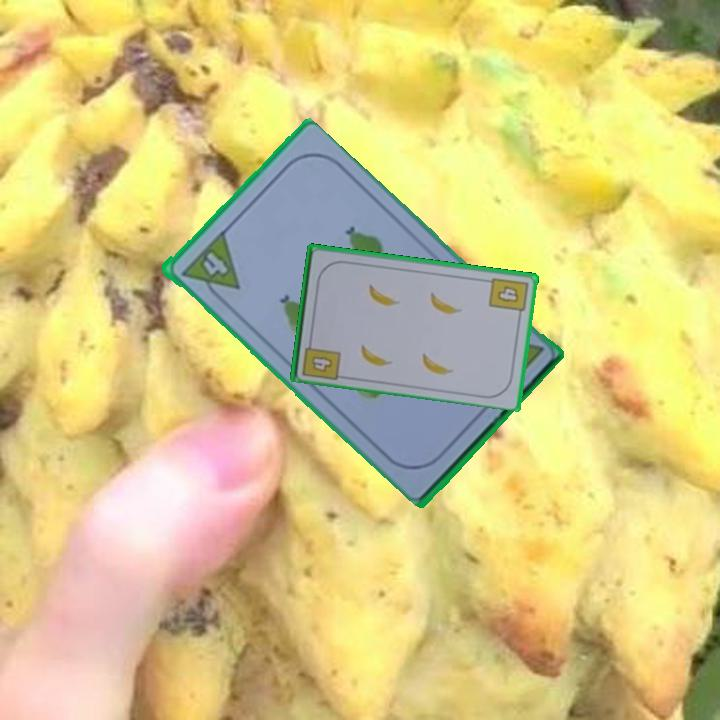4b: (485, 274, 531, 320), (299, 334, 343, 382)
4p: (177, 228, 243, 307)
